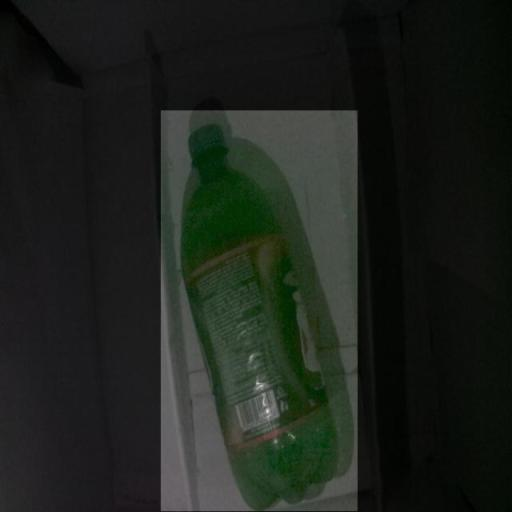plastic: (160, 110, 358, 512)
